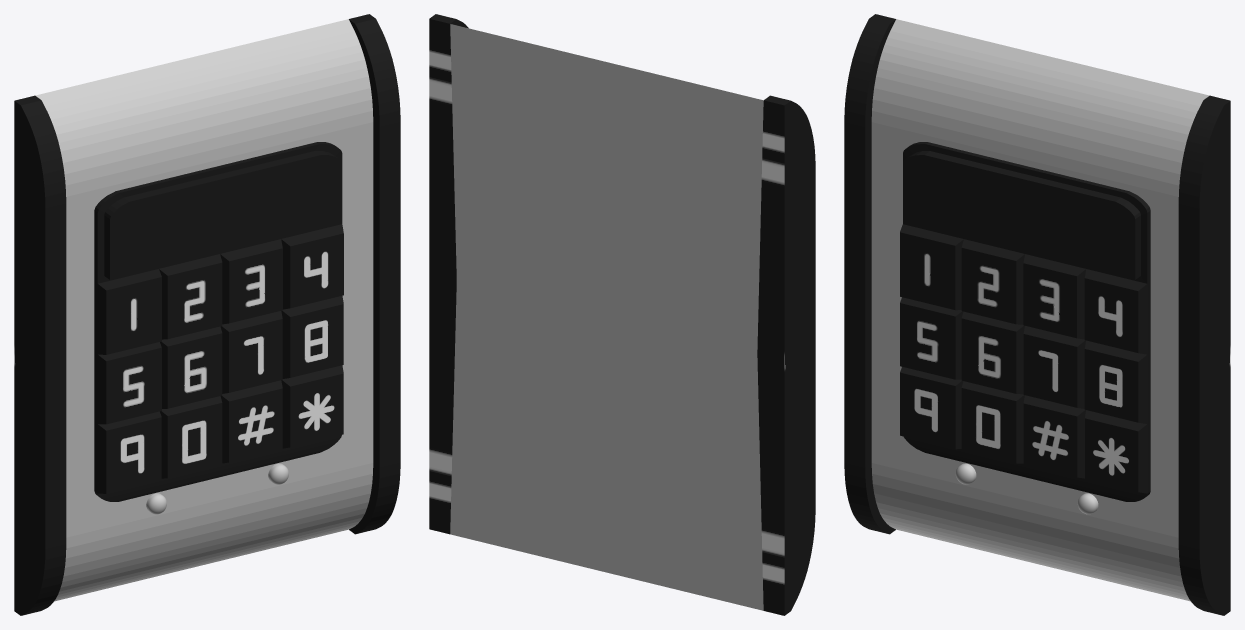
File: Painel.fbx
3 views of the same model, side by side, from view 1: azimuth 30°, elevation 25°; view 2: azimuth 150°, elevation 25°; view 3: azimuth 330°, elevation 25° (orthographic).
Visible parts, largest first — view 1: Sphere.001; view 2: Sphere.001; view 3: Sphere.001.
Part boxes in pixels (<box>): Sphere.001: <box>14,14,400,615</box>; Sphere.001: <box>429,14,815,615</box>; Sphere.001: <box>844,14,1230,615</box>.
Bounding box in the file's own units: 469 × 644 × 77.45.
